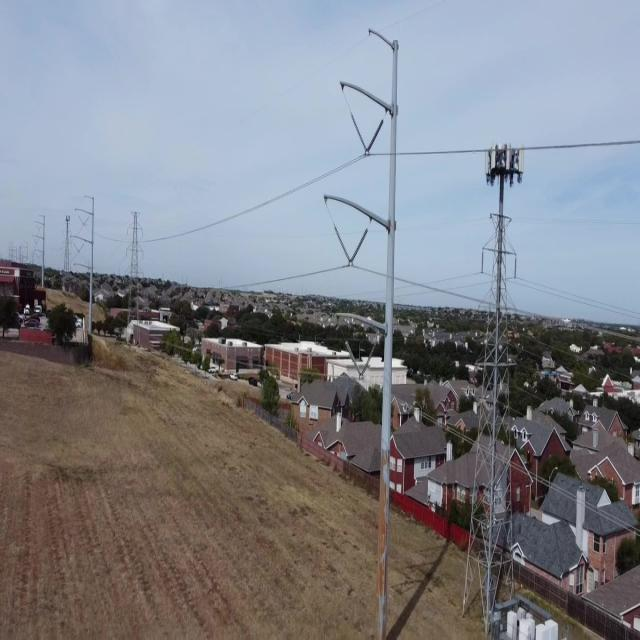杆塔: (461, 197, 522, 640), (116, 202, 152, 348)
正常绝缘子: (344, 221, 372, 276), (339, 329, 367, 384), (346, 103, 372, 161), (329, 215, 355, 269), (361, 112, 387, 162), (355, 336, 380, 388), (478, 240, 486, 281), (512, 248, 520, 286)
